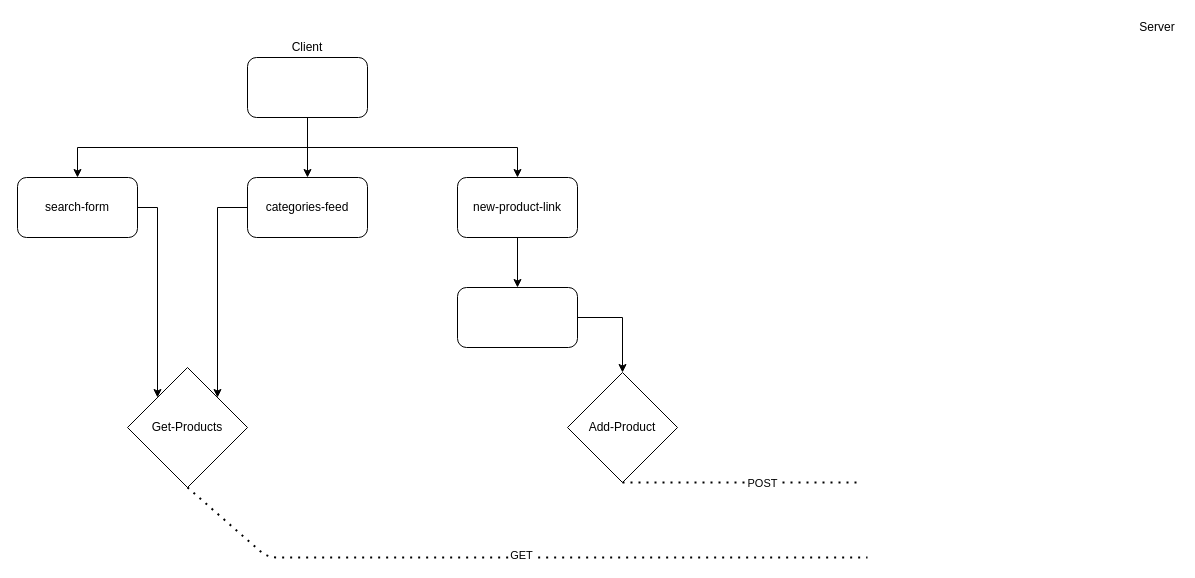
Image size: 1195x578. Some labels were removed from this diagram. The centre of each missing label's shape, as x and y in pixels:
App: [307,87]
new-product-form: [517,317]
